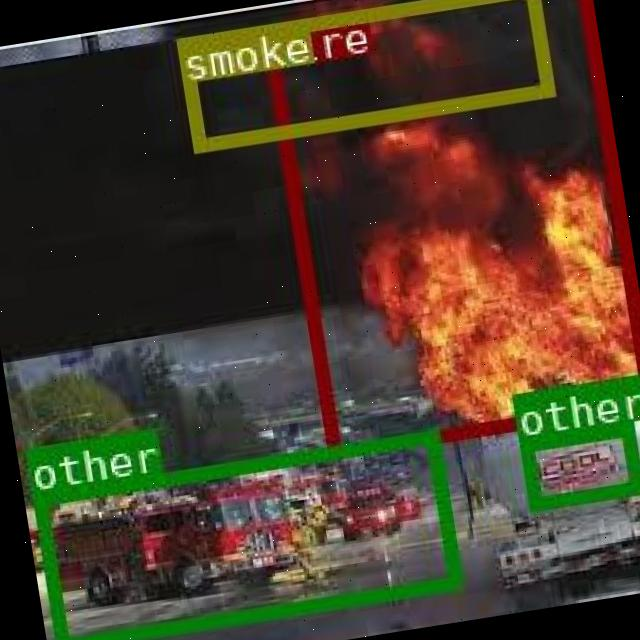fire: (258, 0, 640, 455)
smoke: (174, 0, 552, 152)
